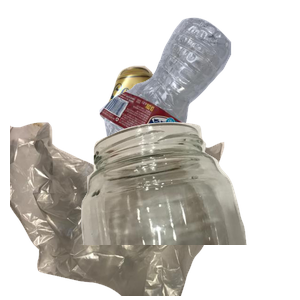glass: (74, 120, 300, 300)
metal: (105, 63, 300, 192)
plastic: (96, 15, 300, 184)
trash: (10, 120, 231, 300)
